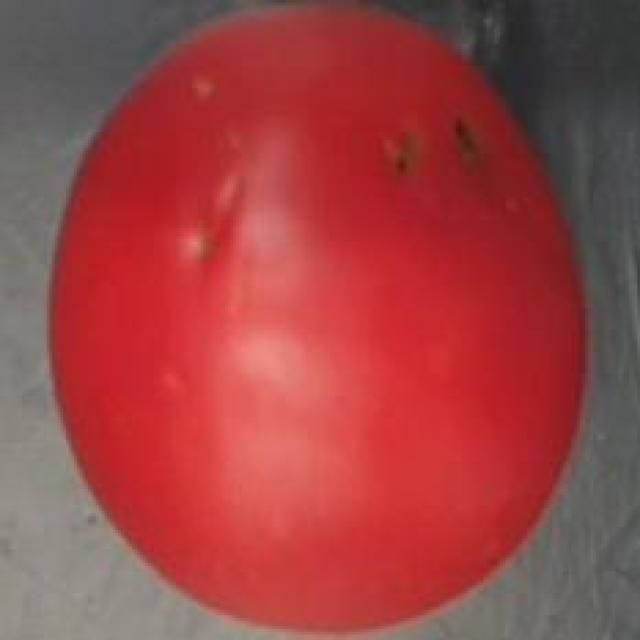ripe tomato: (39, 5, 594, 640)
